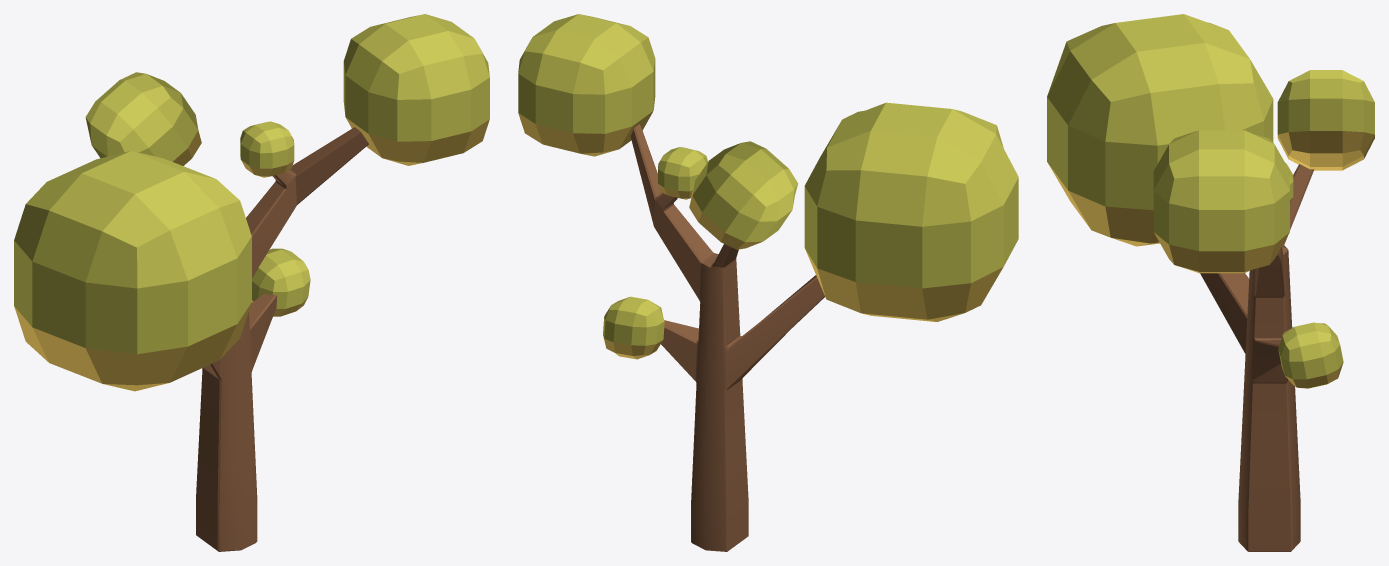
Rendered from tree_low.fbx.
3 views of the same model, side by side, from view 1: azimuth 30°, elevation 25°; view 2: azimuth 150°, elevation 25°; view 3: azimuth 270°, elevation 25° (orthographic). The views are drawn at different scales.
Parts seen in each view (by area): view 1: tree_lod0; view 2: tree_lod0; view 3: tree_lod0.
Boxes of the visible parts, <box> form: tree_lod0: <box>14,14,489,551</box>; tree_lod0: <box>518,14,1018,551</box>; tree_lod0: <box>1047,14,1374,551</box>.
Bounding box in the file's own units: 1060 × 1046 × 643.
